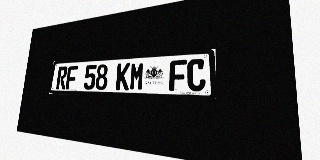5: (83, 65, 97, 90)
8: (95, 64, 109, 90)
C: (187, 58, 206, 91)
F: (169, 59, 187, 91), (65, 66, 78, 89)
K: (115, 63, 130, 90)
M: (129, 62, 145, 90)
R: (56, 66, 68, 89)
